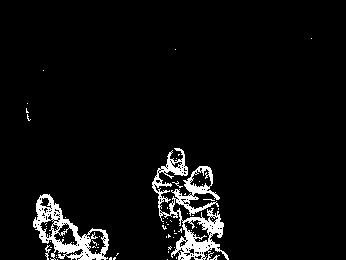person: (182, 161, 224, 247), (154, 144, 188, 245), (172, 208, 230, 260), (68, 219, 112, 260)
